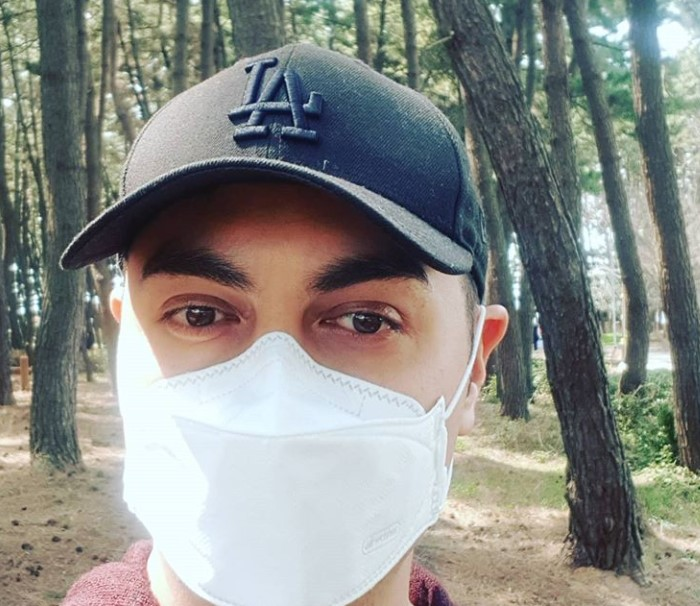face_with_mask: (67, 29, 515, 606)
